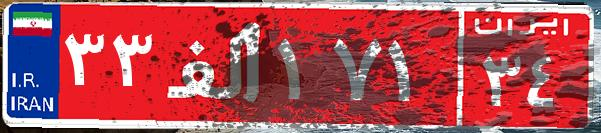1: (385, 28, 445, 110), (273, 28, 330, 110)
3: (57, 26, 110, 107), (475, 38, 525, 113), (110, 28, 158, 105)
4: (525, 38, 570, 115)
7: (330, 28, 385, 110)
الف: (158, 15, 273, 115)
